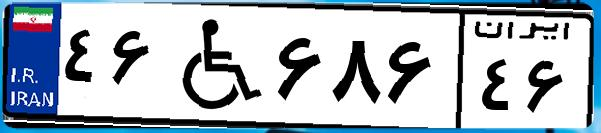4: (57, 26, 110, 100), (475, 38, 525, 113)
6: (270, 28, 330, 110), (385, 28, 445, 110), (525, 38, 570, 115), (110, 28, 158, 98)
8: (330, 28, 385, 110)
ژ (معلولین و جانبازان): (158, 12, 270, 120)
